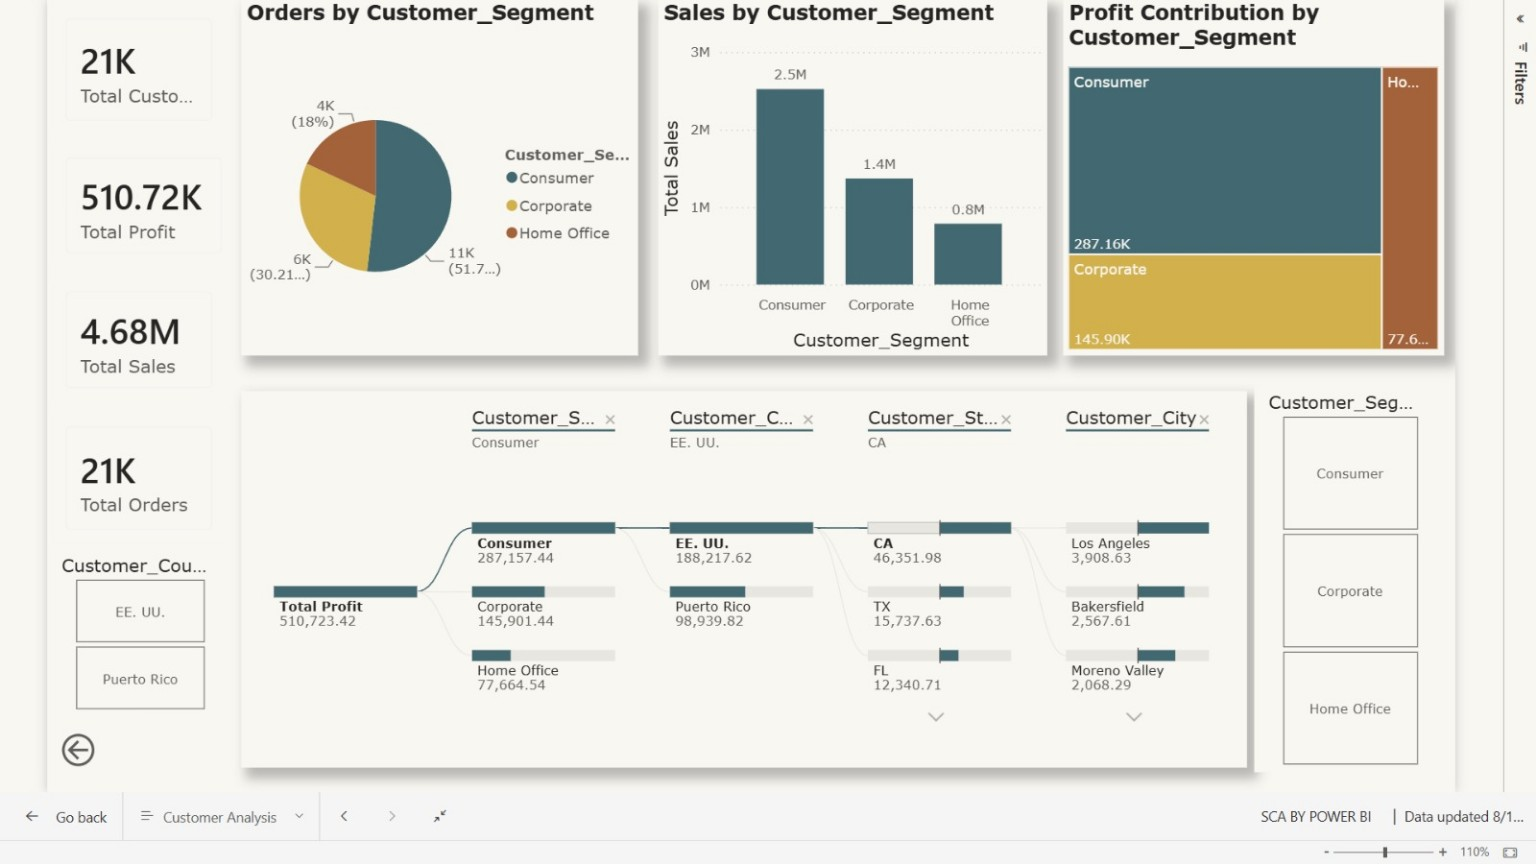

What the dashboard file says about the page in this screenshot:
{"tool":"powerbi","page":{"name":"Customer Analysis","canvas":[1280,720],"ordinal":3},"visuals":[{"type":"cardVisual","fields":{"Data":["Dim_Custumor.Total Customers"]},"box":[0,0,167.5,127.2],"z":0},{"type":"cardVisual","fields":{"Data":["Fact_Order.Total Sales"]},"box":[0,248.2,167.5,122.3],"z":1},{"type":"cardVisual","fields":{"Data":["Fact_Order.Total Orders"]},"box":[0,370.5,167.5,128.4],"z":2},{"type":"cardVisual","fields":{"Data":["Fact_Order.Total Profit"]},"box":[0,126.7,176.1,121.9],"z":3},{"type":"pieChart","title":"Orders by Customer_Segment","fields":{"Category":["Dim_Custumor.Customer_Segment"],"Y":["Fact_Order.Total Orders"]},"box":[176.1,0,360.7,322.8],"z":4},{"type":"clusteredColumnChart","title":"Sales by Customer_Segment","fields":{"Category":["Dim_Custumor.Customer_Segment"],"Y":["Fact_Order.Total Sales"]},"box":[555.2,0,353.4,322.8],"z":5},{"type":"treemap","title":"Profit Contribution by Customer_Segment","fields":{"Group":["Dim_Custumor.Customer_Segment"],"Values":["Fact_Order.Total Profit"]},"box":[923.2,0,346.1,322.8],"z":6},{"type":"decompositionTreeVisual","fields":{"Analyze":["Fact_Order.Total Profit"],"ExplainBy":["Dim_Custumor.Customer_Segment","Dim_Custumor.Customer_Country","Dim_Custumor.Customer_State","Dim_Custumor.Customer_City"]},"box":[176.1,355.8,914.7,342.4],"z":7},{"type":"slicer","fields":{"Values":["Dim_Custumor.Customer_Segment"]},"box":[1096.9,351,172.4,351],"z":8},{"type":"slicer","fields":{"Values":["Dim_Custumor.Customer_Country"]},"box":[0,498.9,167.5,152.9],"z":9},{"type":"actionButton","box":[8.6,661.6,100,40],"z":10}]}

Visuals, with their boxes on the page's 1280x720 design canvas (x1, y1, x2, y2). These are canvas units, not pixel positions in the 1536x864 screenshot, which may show the page scaled, cropped or inside an application window:
cardVisual - Dim_Custumor.Total Customers: (x1=0, y1=0, x2=168, y2=127)
cardVisual - Fact_Order.Total Sales: (x1=0, y1=248, x2=168, y2=370)
cardVisual - Fact_Order.Total Orders: (x1=0, y1=370, x2=168, y2=499)
cardVisual - Fact_Order.Total Profit: (x1=0, y1=127, x2=176, y2=249)
"Orders by Customer_Segment" pieChart: (x1=176, y1=0, x2=537, y2=323)
"Sales by Customer_Segment" clusteredColumnChart: (x1=555, y1=0, x2=909, y2=323)
"Profit Contribution by Customer_Segment" treemap: (x1=923, y1=0, x2=1269, y2=323)
decompositionTreeVisual - Fact_Order.Total Profit x Dim_Custumor.Customer_Segment: (x1=176, y1=356, x2=1091, y2=698)
slicer - Dim_Custumor.Customer_Segment: (x1=1097, y1=351, x2=1269, y2=702)
slicer - Dim_Custumor.Customer_Country: (x1=0, y1=499, x2=168, y2=652)
actionButton: (x1=9, y1=662, x2=109, y2=702)
